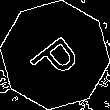P_NE: (24, 25, 86, 85)
